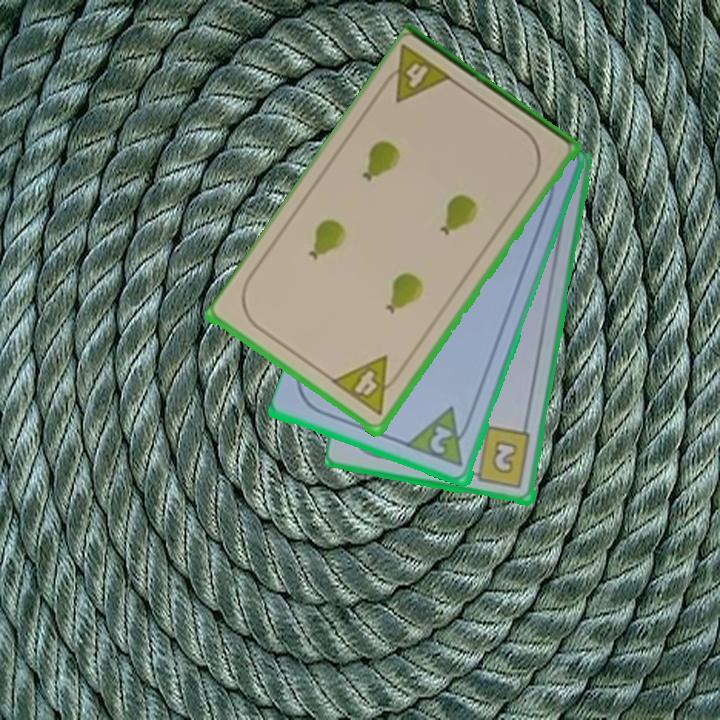2b: (465, 424, 534, 492)
2p: (405, 404, 476, 471)
4p: (375, 42, 457, 107), (329, 353, 406, 419)
